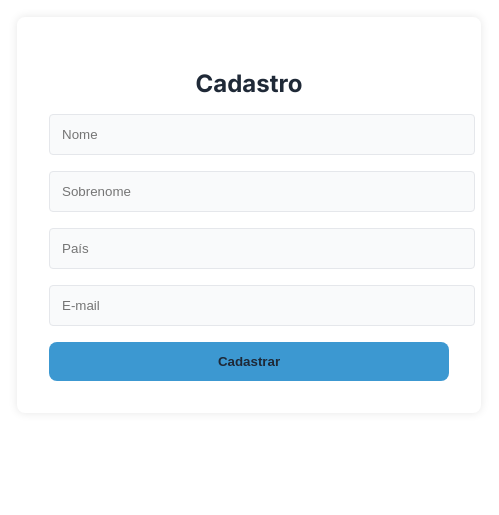
Test: RegisterForm › shows validation errors when submitting empty form
The width and height of the screenshot is (499, 515).
Click the button "Cadastrar" at (249, 361), box [49, 342, 449, 381]
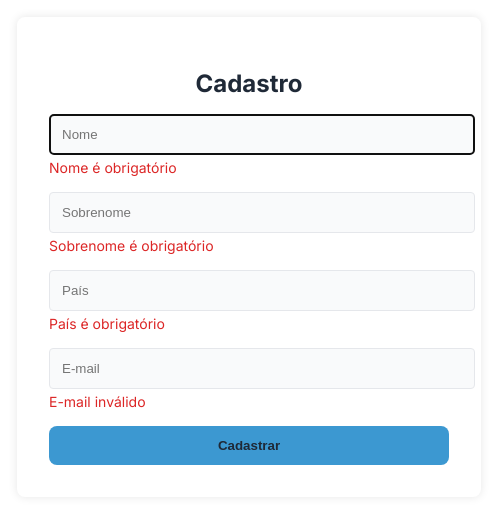
Expected: the text "Nome é obrigatório" is shown, [49, 159, 177, 176]
Expected: the text "Sobrenome é obrigatório" is shown, [49, 237, 214, 254]
Expected: the text "País é obrigatório" is shown, [49, 315, 165, 332]
